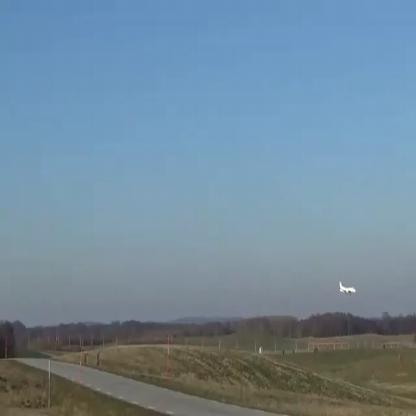CIV_Plane: (340, 280, 358, 294)
